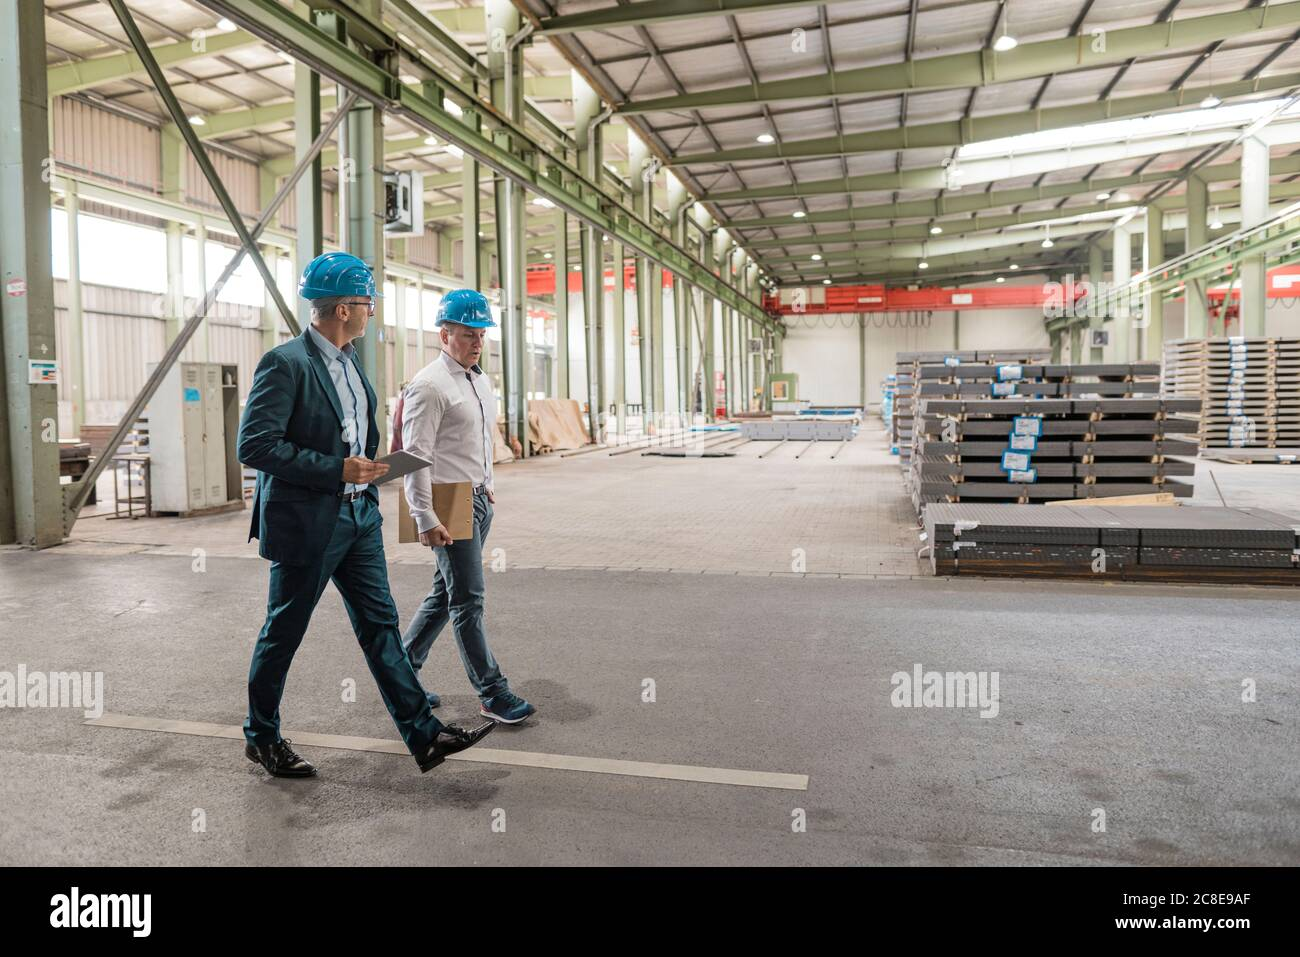person: (233, 253, 488, 772), (401, 289, 538, 723)
